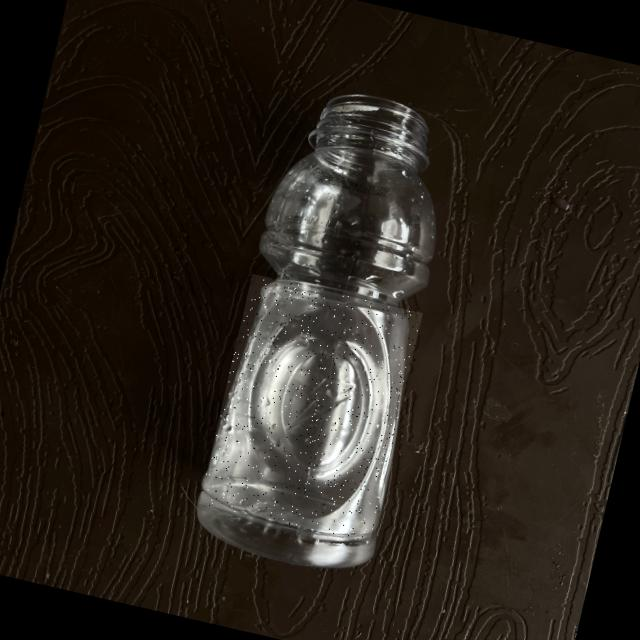PET_With_Liquid: (203, 281, 404, 533)
